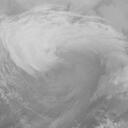cyclone: (10, 24, 89, 88)
